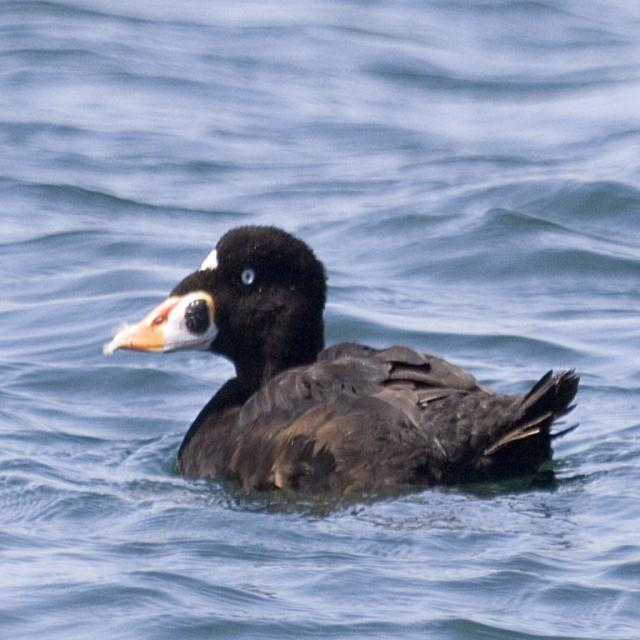bird: (102, 220, 580, 499)
